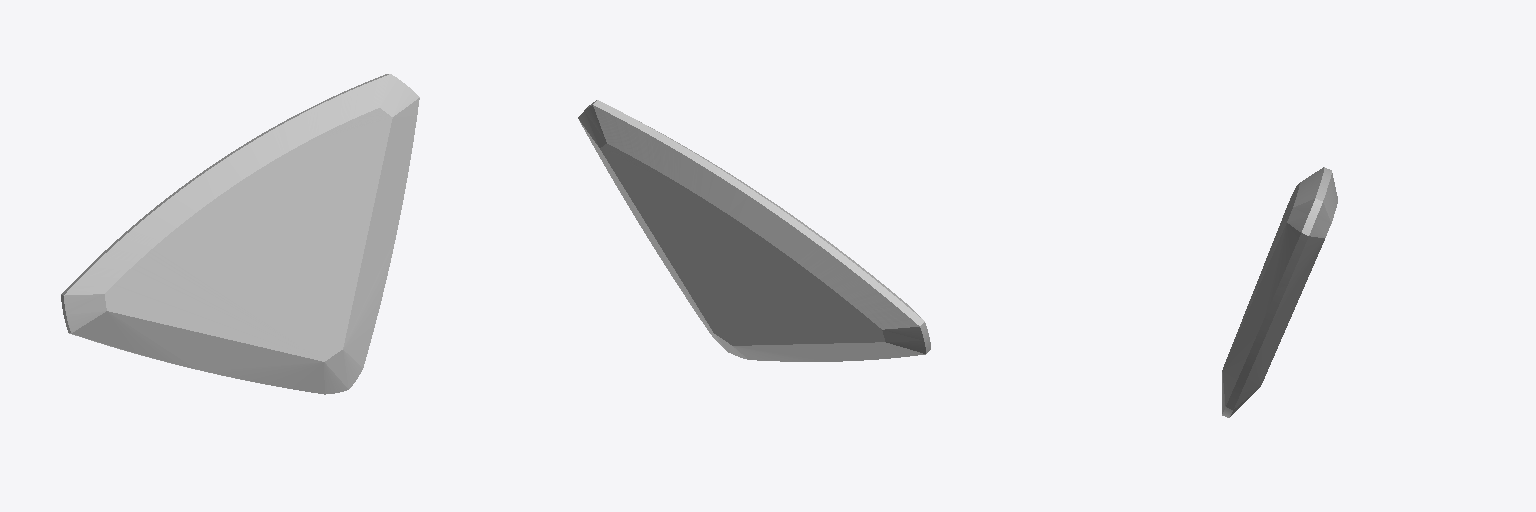
File: Burbuja Squaridot.obj
3 views of the same model, side by side, from view 1: azimuth 30°, elevation 25°; view 2: azimuth 150°, elevation 25°; view 3: azimuth 270°, elevation 25° (orthographic).
Visible parts, largest first — view 1: ID104, ID52.001, ID65, ID26.001, ID39.001, group_1.001, ID78; view 2: ID91, ID52.001, ID65, ID26.001, ID39.001, ID78; view 3: ID26.001, ID52.001, ID78, ID104.
Part boxes in pixels (bbox=[...]): ID104: bbox=[105, 108, 392, 361]; ID52.001: bbox=[61, 74, 390, 295]; ID65: bbox=[69, 311, 324, 394]; ID26.001: bbox=[343, 98, 419, 367]; ID39.001: bbox=[61, 294, 106, 332]; group_1.001: bbox=[324, 350, 362, 394]; ID78: bbox=[380, 74, 419, 116]; ID91: bbox=[600, 144, 884, 345]; ID52.001: bbox=[593, 100, 924, 329]; ID65: bbox=[733, 342, 925, 361]; ID26.001: bbox=[579, 120, 712, 333]; ID39.001: bbox=[882, 322, 930, 353]; ID78: bbox=[578, 100, 606, 147]; ID26.001: bbox=[1222, 223, 1324, 409]; ID52.001: bbox=[1293, 167, 1337, 223]; ID78: bbox=[1287, 199, 1330, 237]; ID104: bbox=[1222, 183, 1299, 370].
Bounding box in the file's own units: 8.39 × 6.03 × 2.41.